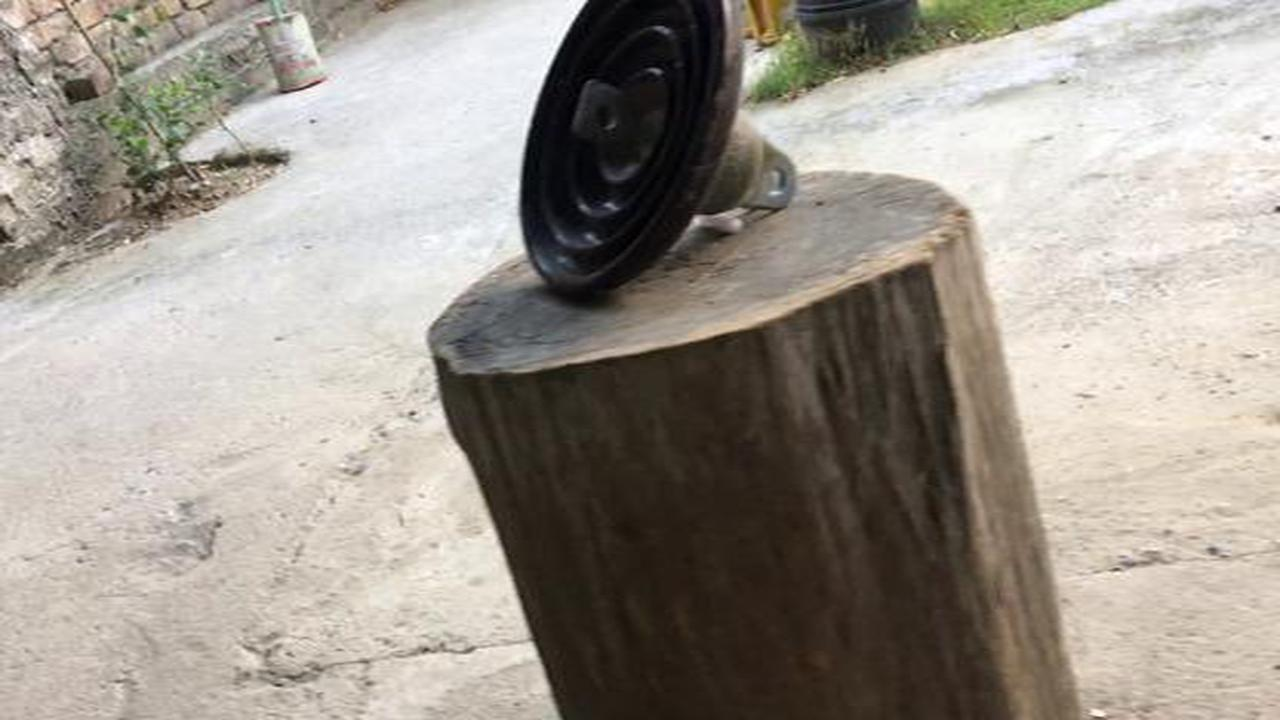insulator_disc: (517, 2, 802, 309)
